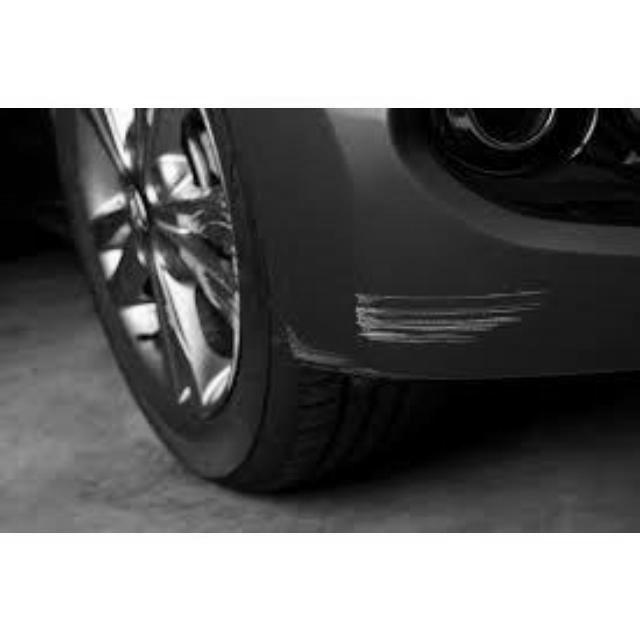front-bumper-dent: (221, 112, 637, 414)
